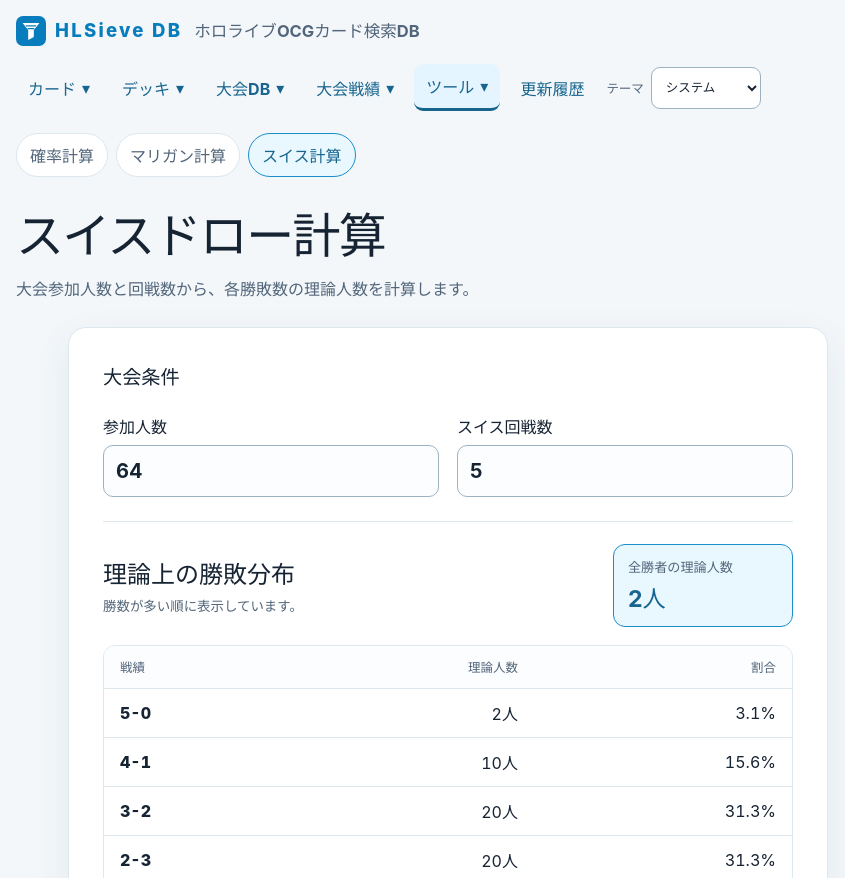
Test case: SwissPage › hides results for invalid スイス回戦数 input
Step 1. Replace the text in the number field labelled "スイス回戦数" with "21" → (625, 471), box [457,445,793,497]
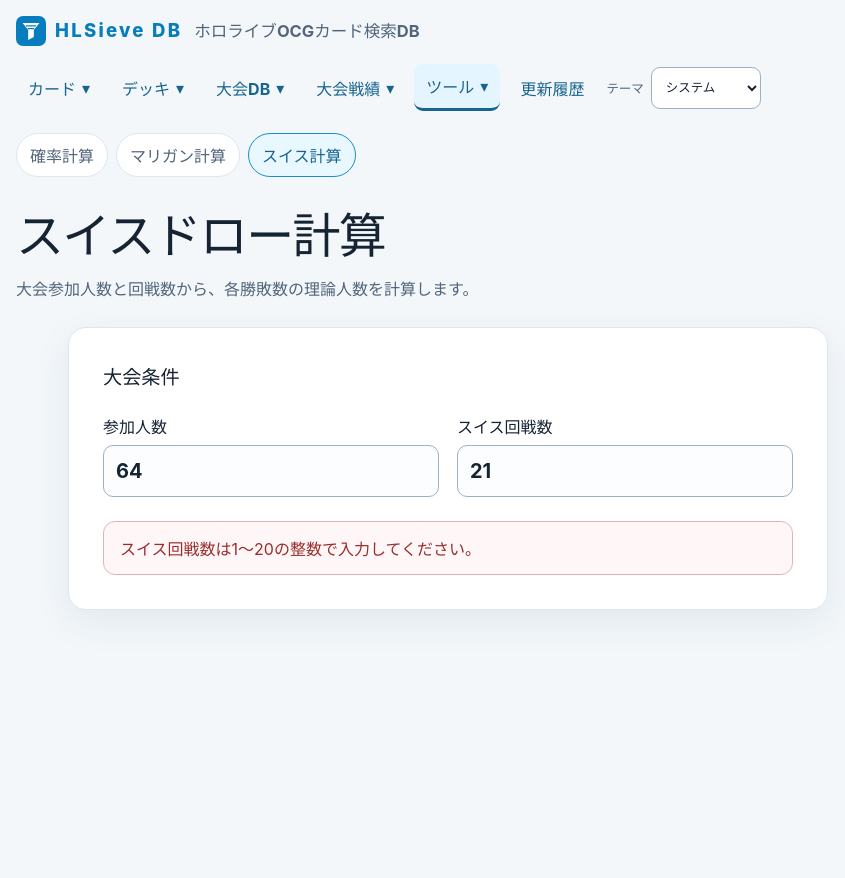
Expected: the message reads "スイス回戦数は1〜20の整数で入力してください。", [120,539,481,559]
